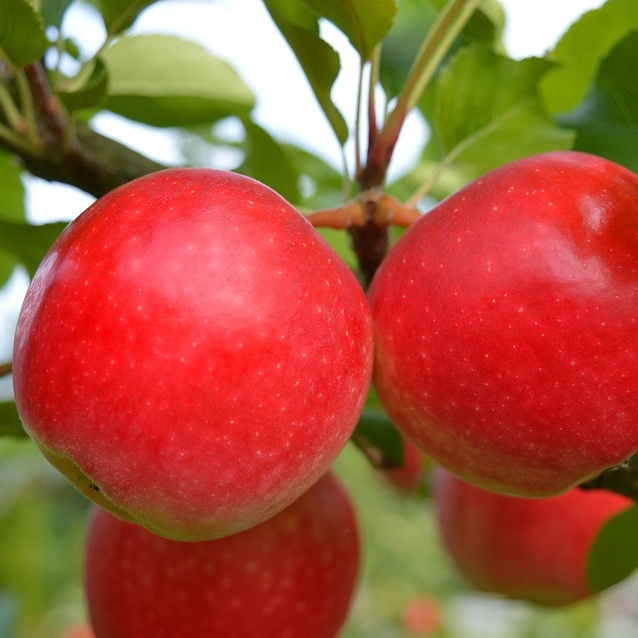apple: (13, 168, 375, 543), (364, 148, 638, 495), (81, 472, 363, 638), (430, 467, 638, 603)
